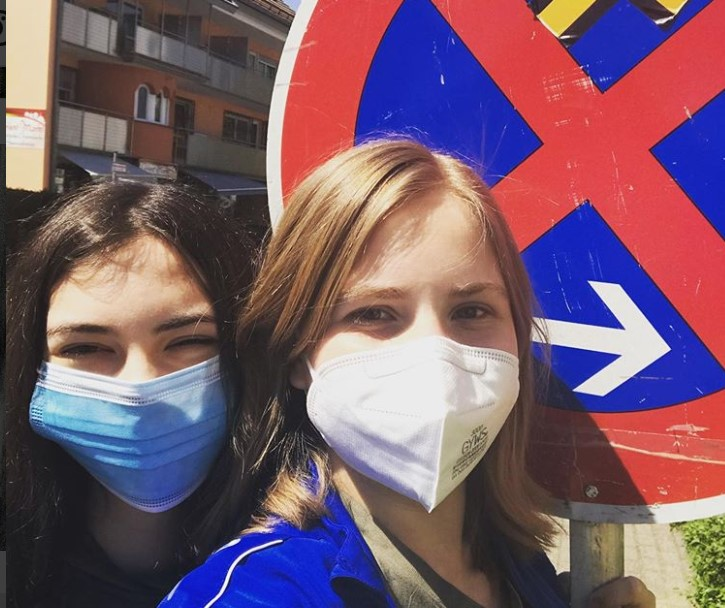face_with_mask: (283, 173, 535, 515), (22, 203, 243, 533)
